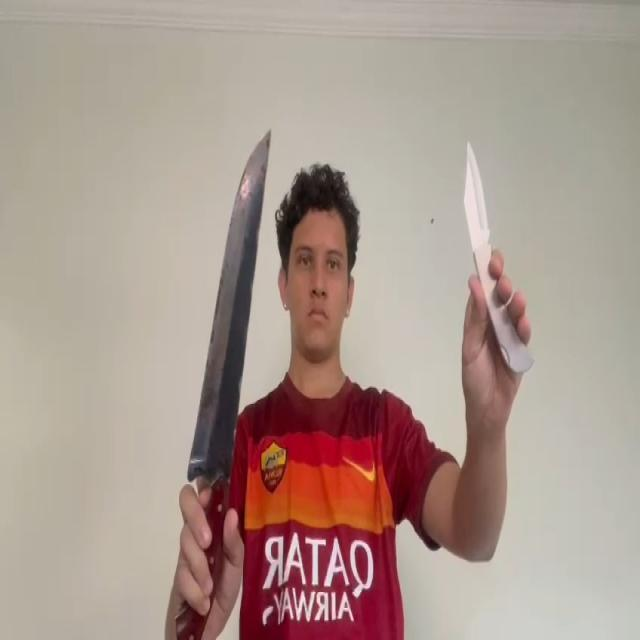knife: (187, 131, 272, 483), (464, 137, 491, 249)
